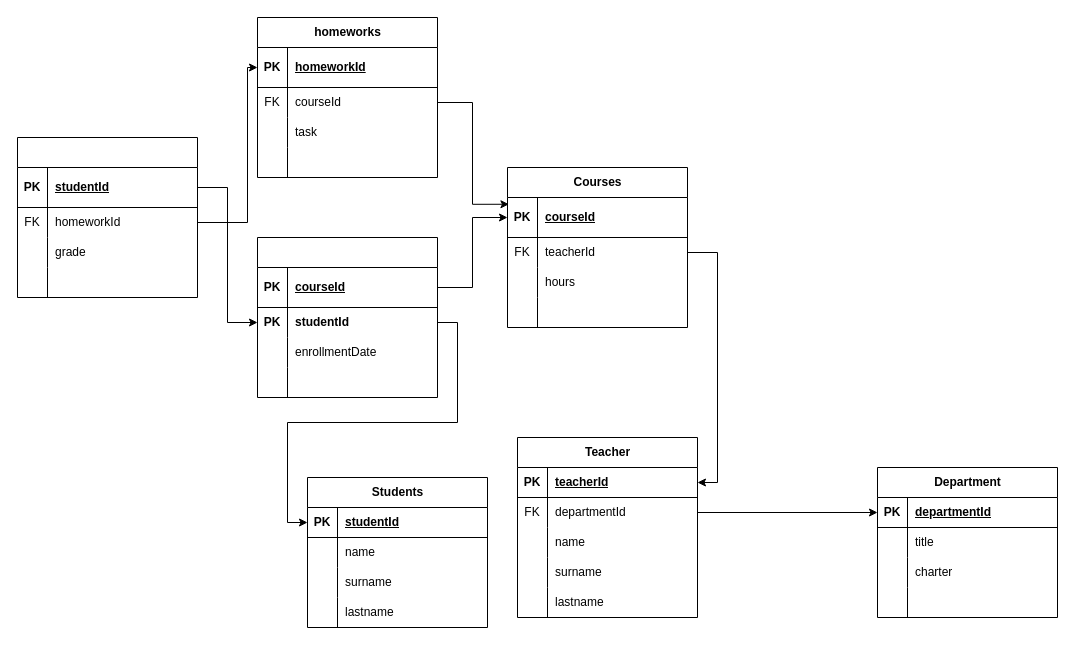
Image size: 1075x645. Some labels were removed from this diagram. Here are the shapes that lost their labels. From the top down, the box of each, then its label:
(16, 136, 198, 298): studentHomework
(256, 236, 438, 398): studentcourse
